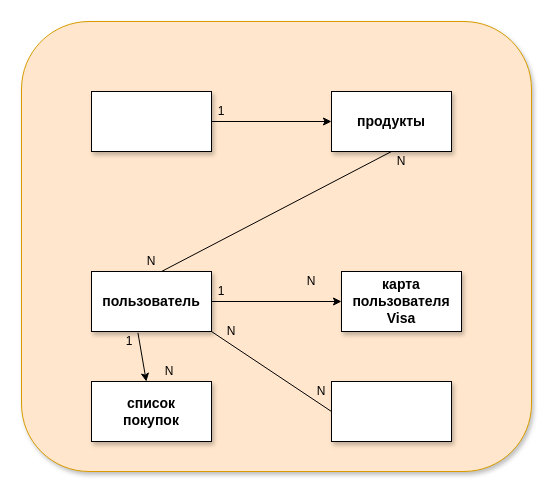
Image size: 555x496. Some labels were removed from this diagram. The centre of each missing label's shape, as x and y in pixels:
"заказ действителен" goes at point 392,412.
"категории" goes at point 152,122.
